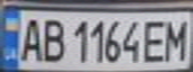1: (66, 16, 90, 63), (87, 17, 106, 63)
4: (121, 17, 145, 64)
6: (103, 17, 124, 63)
A: (18, 15, 45, 63)
B: (36, 16, 69, 63)
E: (139, 16, 169, 63)
M: (163, 16, 193, 62)
